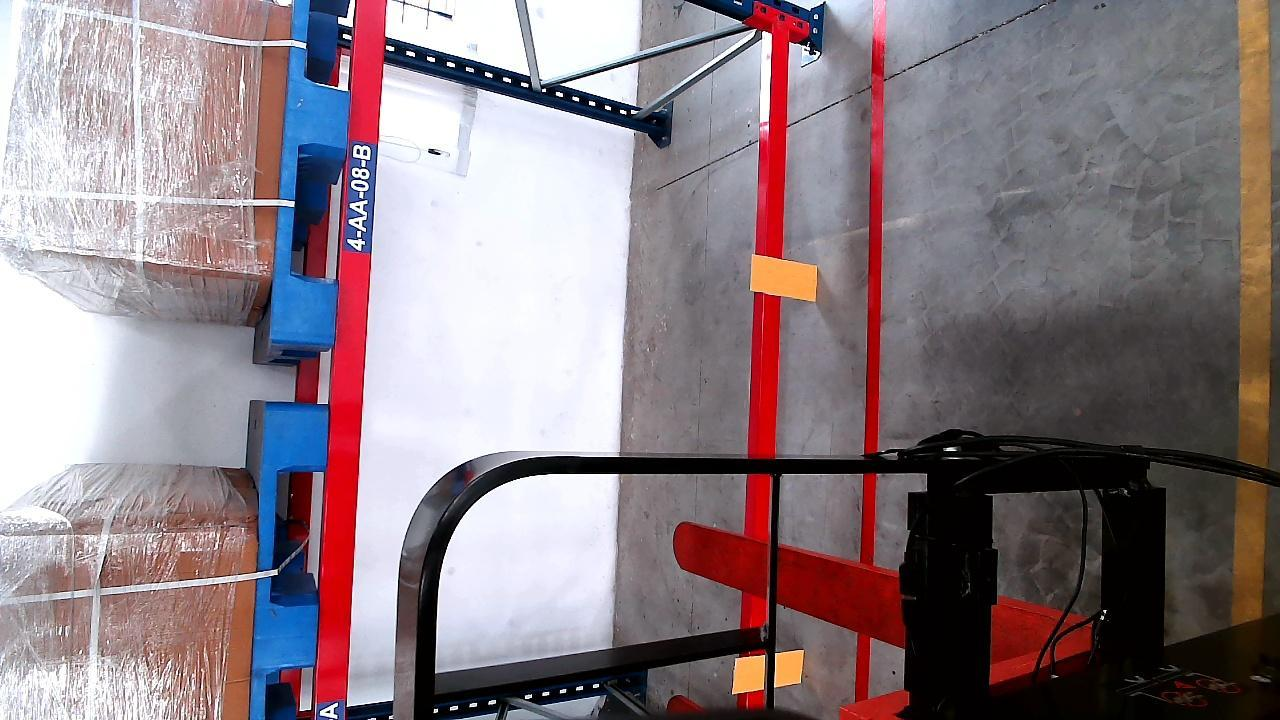red_line: (855, 3, 886, 703)
yellow_line: (1236, 0, 1267, 630)
